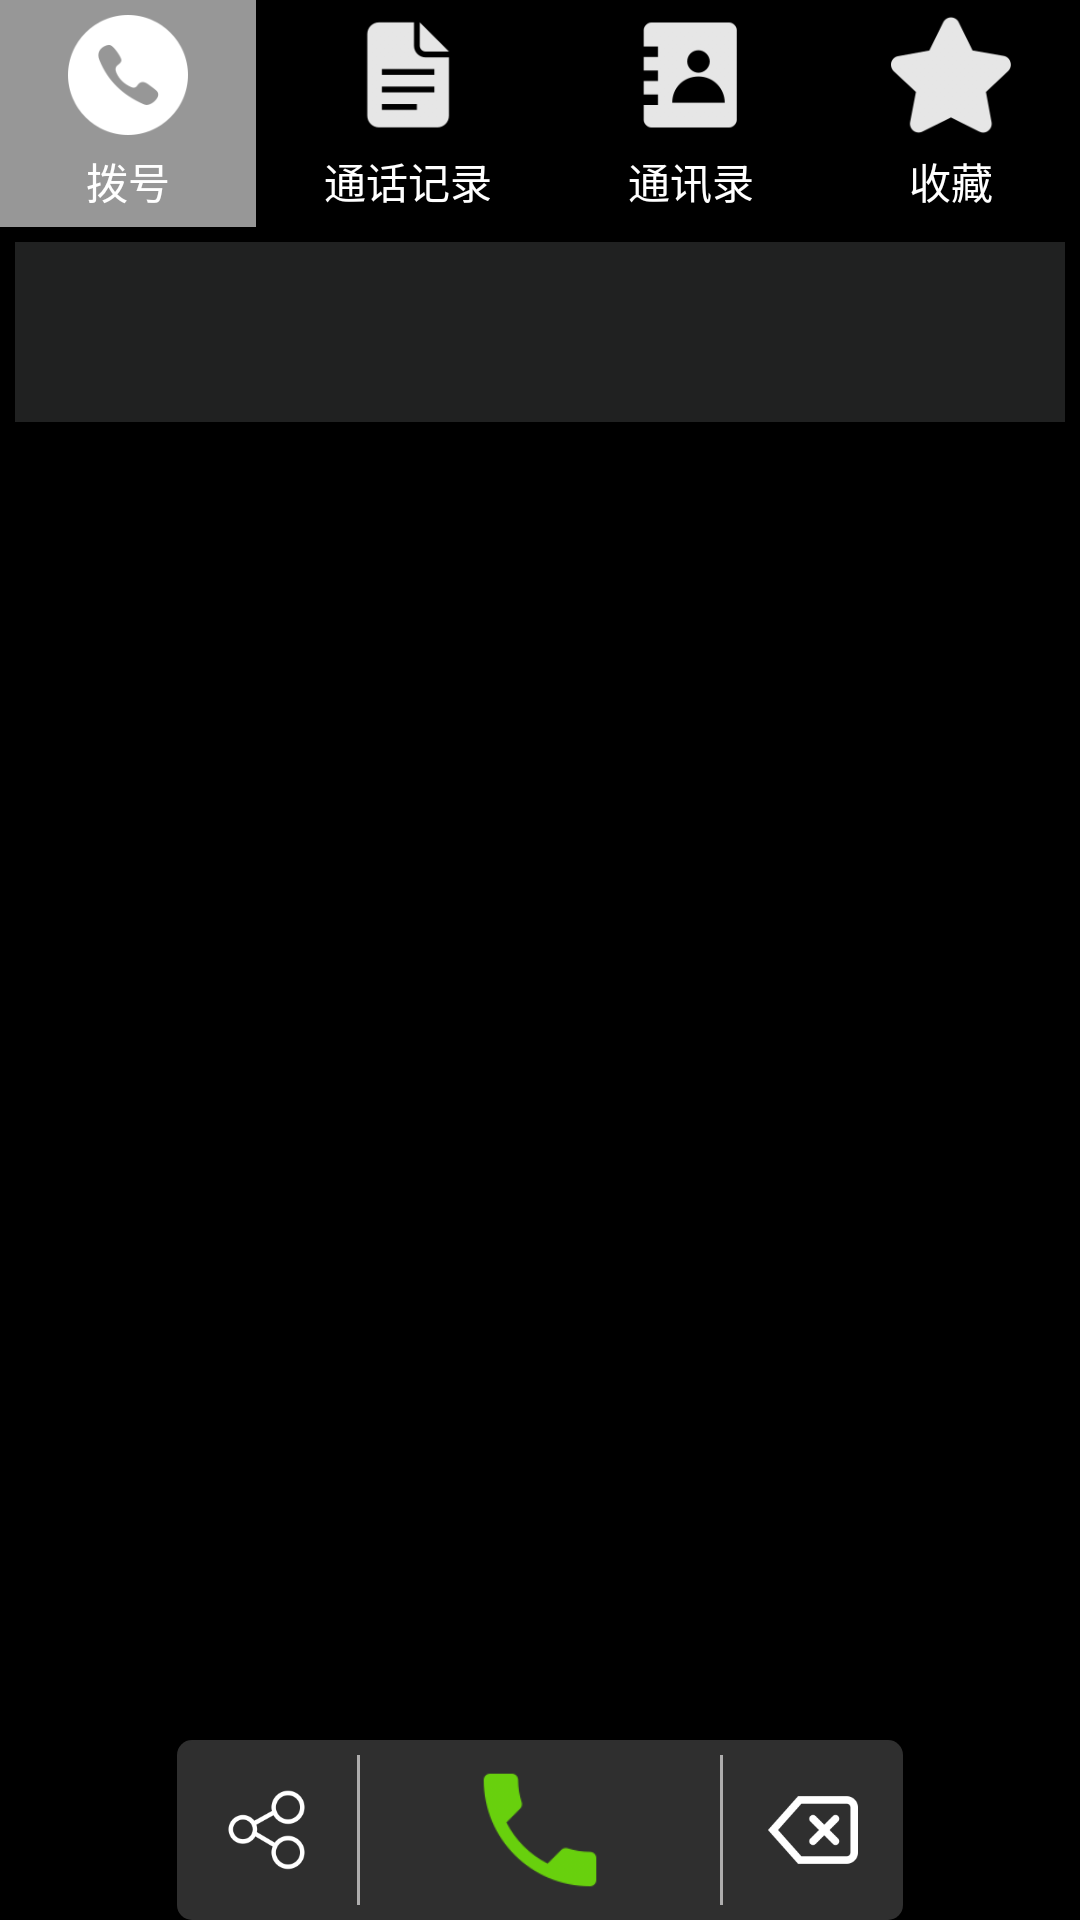

Icon click points for this 1080×1920 phone screenshot, format (x=x, y=y):
delete: (x=813, y=1830)
phone: (x=540, y=1830)
share: (x=266, y=1830)
